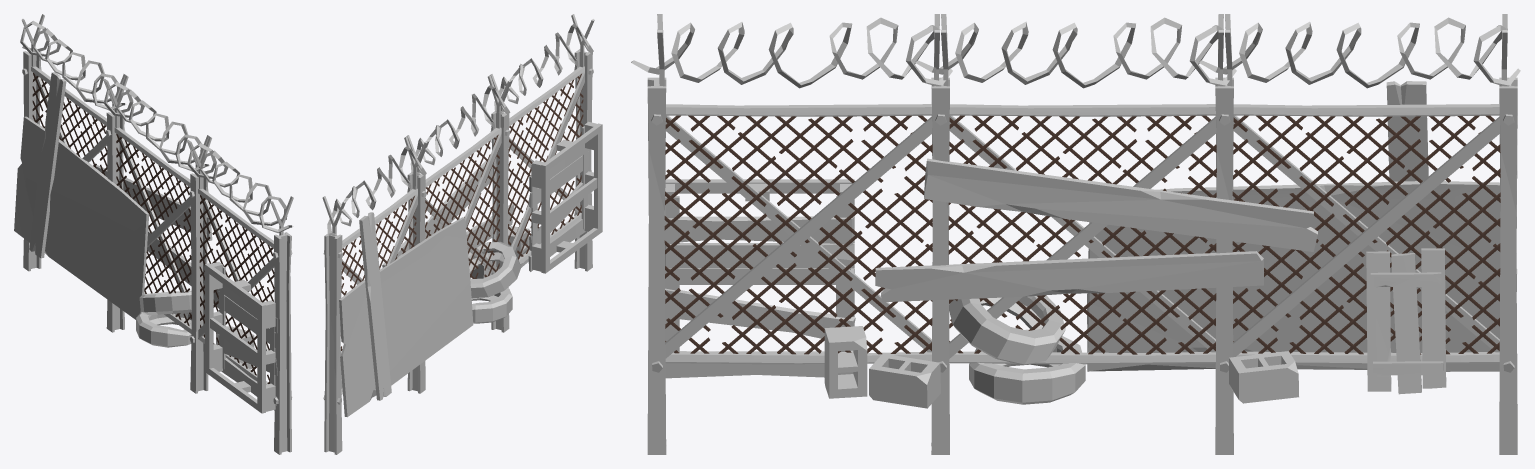
File: SM_Prop_Wall_Junk_01.fbx
3 renders of one model, left to right at view 1: azimuth 30°, elevation 25°; view 2: azimuth 150°, elevation 25°; view 3: azimuth 270°, elevation 25°, orthographic. The views are drawn at different scales.
Visible parts, largest first — view 1: SM_Prop_Wall_Junk_01; view 2: SM_Prop_Wall_Junk_01; view 3: SM_Prop_Wall_Junk_01.
Part boxes in pixels (<box>): SM_Prop_Wall_Junk_01: <box>14,14,293,454</box>; SM_Prop_Wall_Junk_01: <box>322,14,602,454</box>; SM_Prop_Wall_Junk_01: <box>631,14,1520,454</box>.
Bounding box in the file's own units: 97.9 × 334 × 627.
